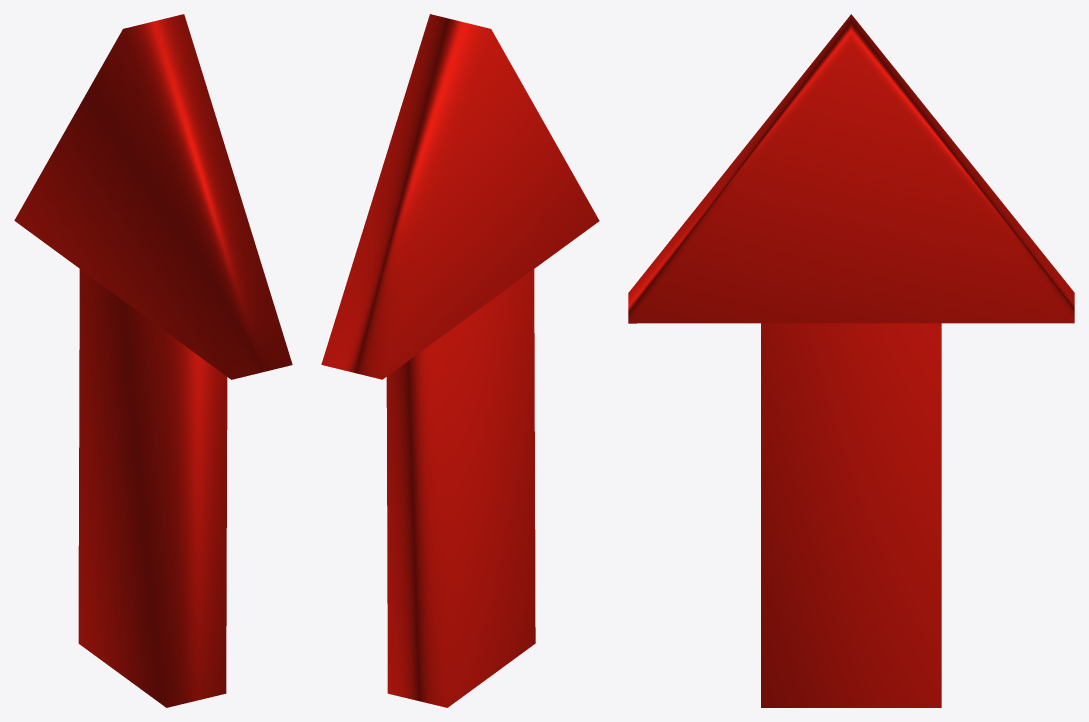
Rendered from arrow_red_updated.glb.
3 views of the same model, side by side, from view 1: azimuth 30°, elevation 25°; view 2: azimuth 150°, elevation 25°; view 3: azimuth 270°, elevation 25° (orthographic). The views are drawn at different scales.
Visible parts, largest first — view 1: Cube.002, Cylinder; view 2: Cube.002, Cylinder; view 3: Cylinder, Cube.002.
Part boxes in pixels (x1=…): Cube.002: x1=78, y1=269, x2=227, y2=707; Cylinder: x1=14, y1=14, x2=292, y2=379; Cube.002: x1=386, y1=269, x2=535, y2=707; Cylinder: x1=321, y1=14, x2=599, y2=379; Cylinder: x1=628, y1=14, x2=1074, y2=323; Cube.002: x1=761, y1=323, x2=941, y2=707.
Size of the model in its own units: 0.5736 by 5.75 by 3.5.
